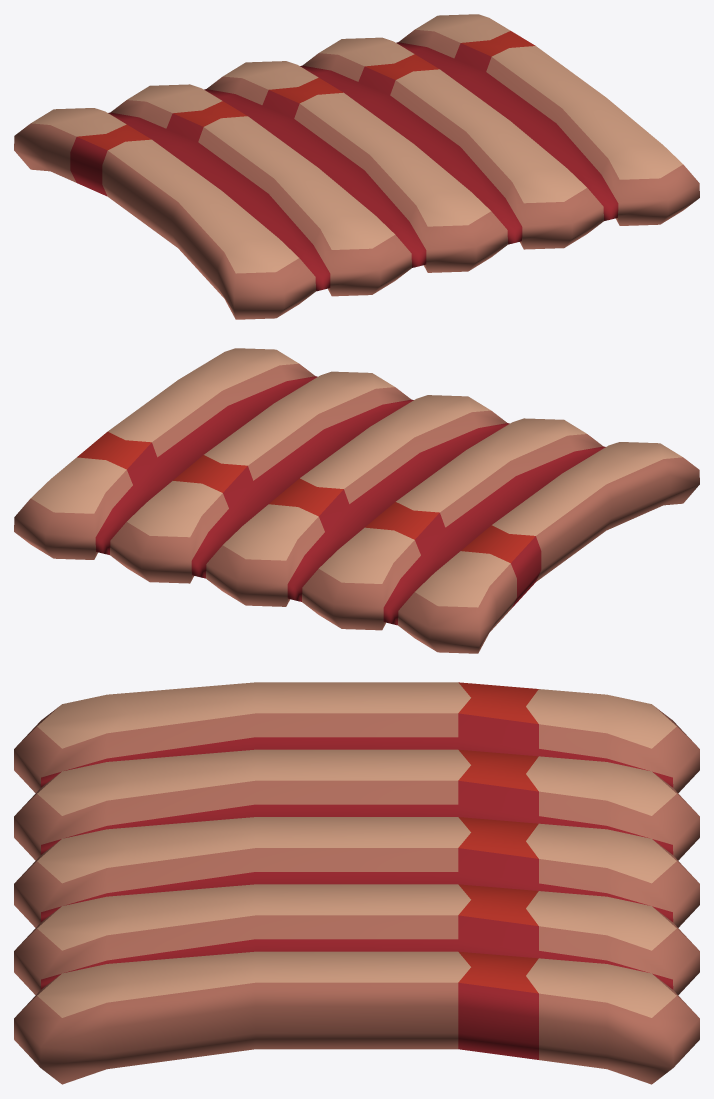
3 views of the same model, one above another, from view 1: azimuth 30°, elevation 25°; view 2: azimuth 150°, elevation 25°; view 3: azimuth 270°, elevation 25° (orthographic). The views are drawn at different scales.
Parts seen in each view (by area): view 1: RackOfRibs; view 2: RackOfRibs; view 3: RackOfRibs.
Part boxes in pixels (x1,y1,x2,y2): RackOfRibs: (14,14,699,319); RackOfRibs: (14,348,699,653); RackOfRibs: (14,682,699,1084).
Size of the model in its own units: 0.5 by 0.0679 by 0.4436.
